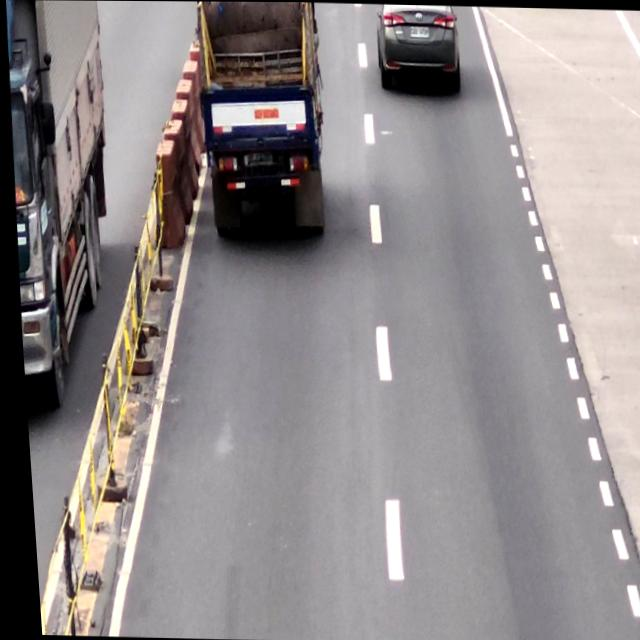Car: (372, 3, 463, 96)
License-Plate: (242, 151, 274, 167), (408, 22, 429, 37)
Truck: (0, 0, 123, 408), (188, 1, 330, 240)
